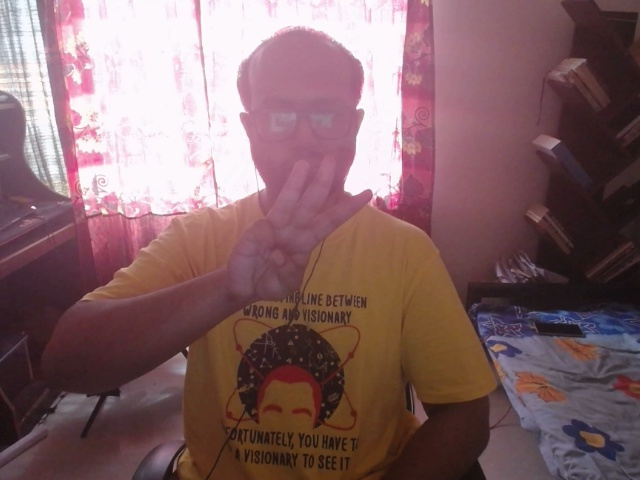three: (249, 132, 392, 282)
